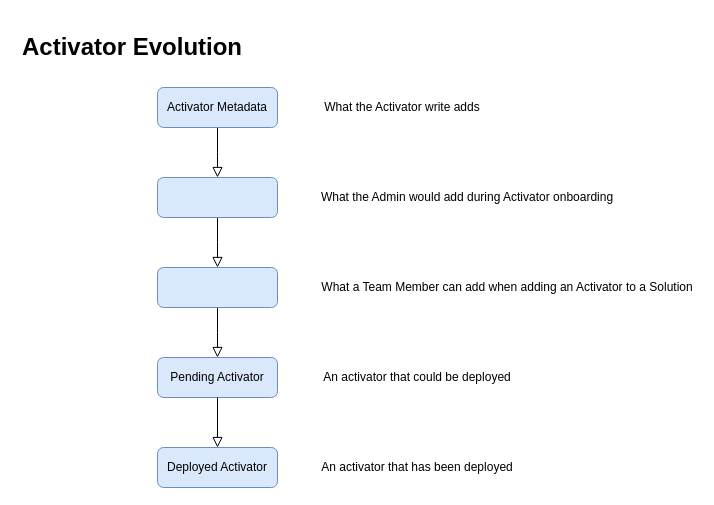
Some shapes in this 714 by 505 pixel diagram are drawn without their labels. Each missing label, with the box of its shape:
Options Data: (156, 266, 278, 308)
Site Data: (156, 176, 278, 218)
